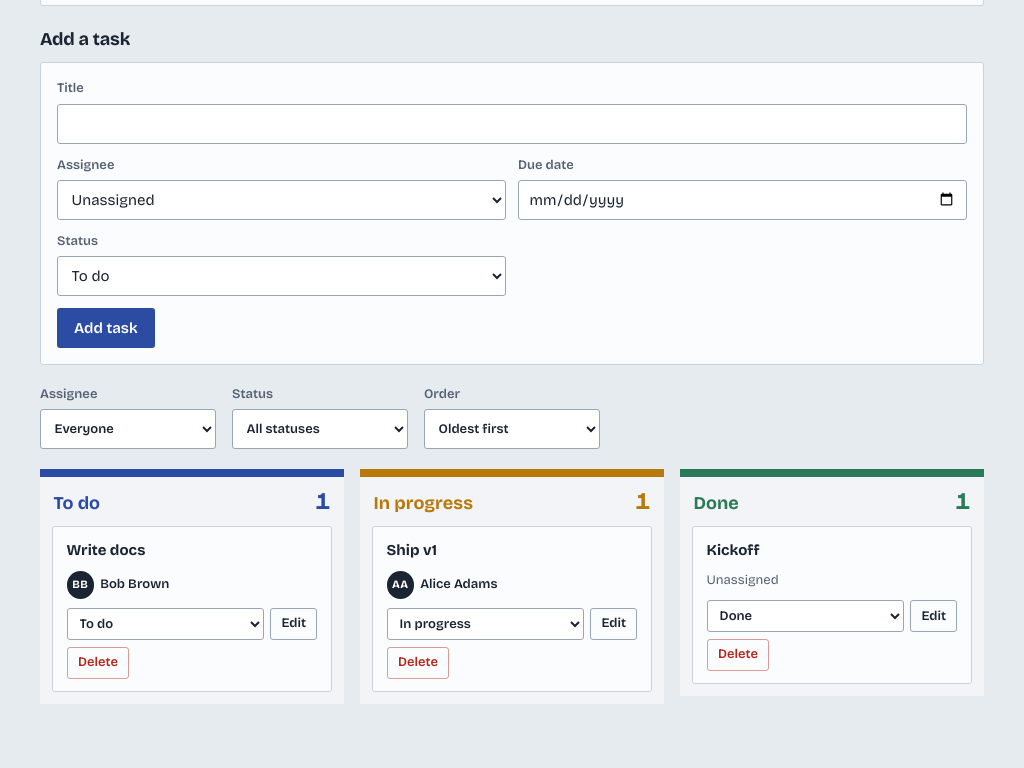
Test: Board page › deletes a task after confirmation
This screenshot has width=1024, height=768.
(page scrolled)
Click the button named "Delete Write docs" at (98, 663), box [67, 647, 129, 679]
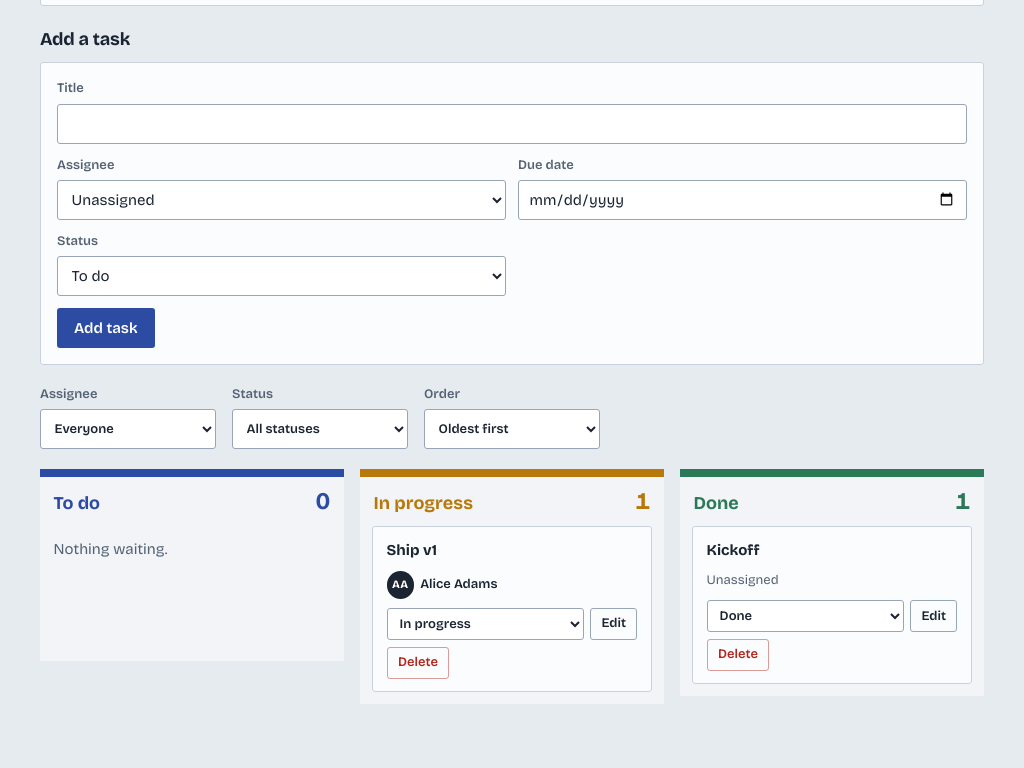
Check: the heading "Write docs" is gone
